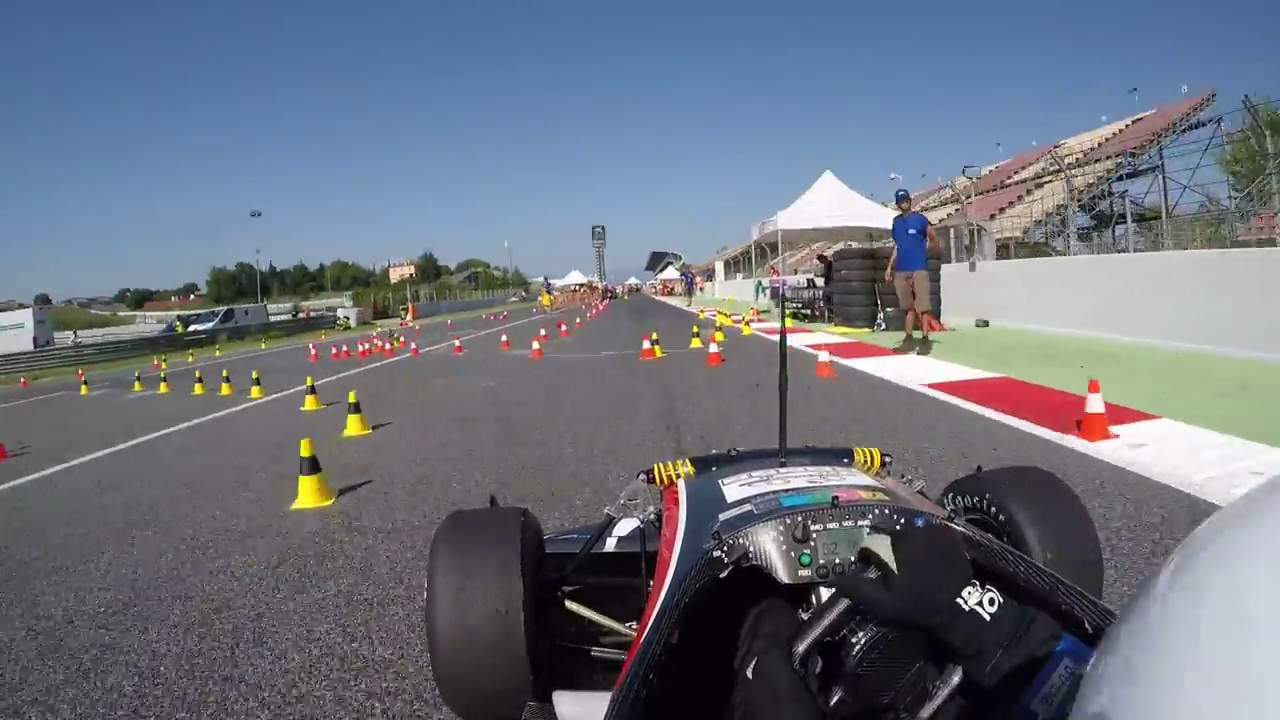Cone: (289, 434, 339, 509), (1077, 373, 1118, 447), (343, 388, 375, 439), (300, 373, 323, 414), (245, 364, 270, 398)
